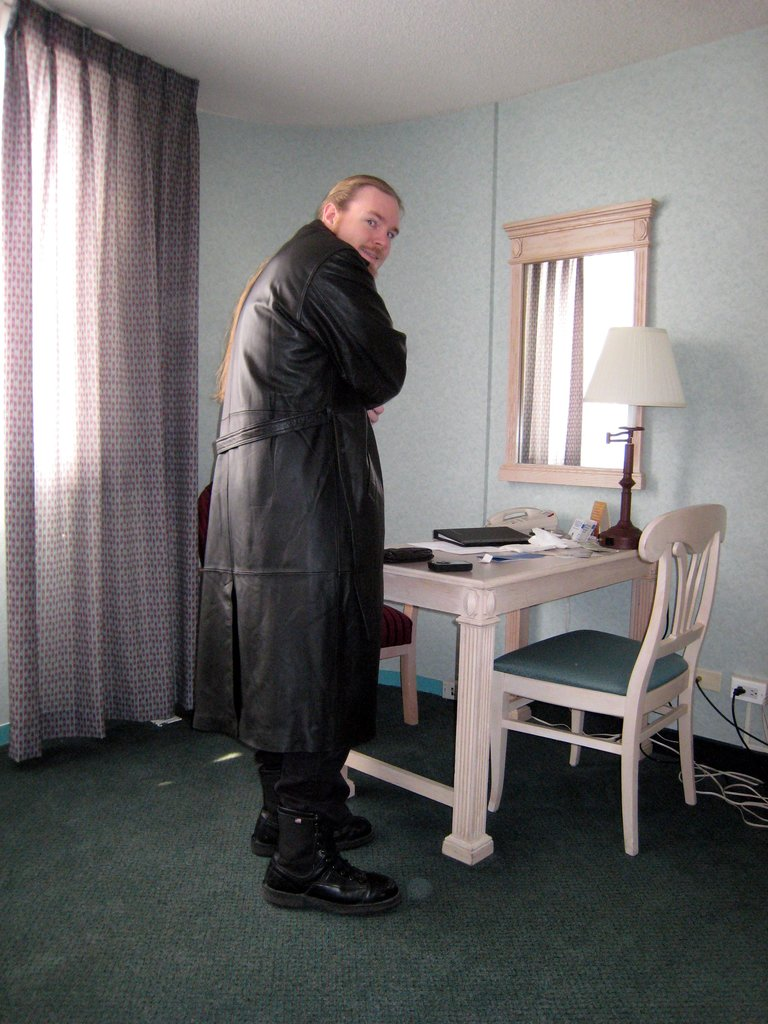Footwear: (260, 844, 413, 907), (253, 788, 380, 854)
